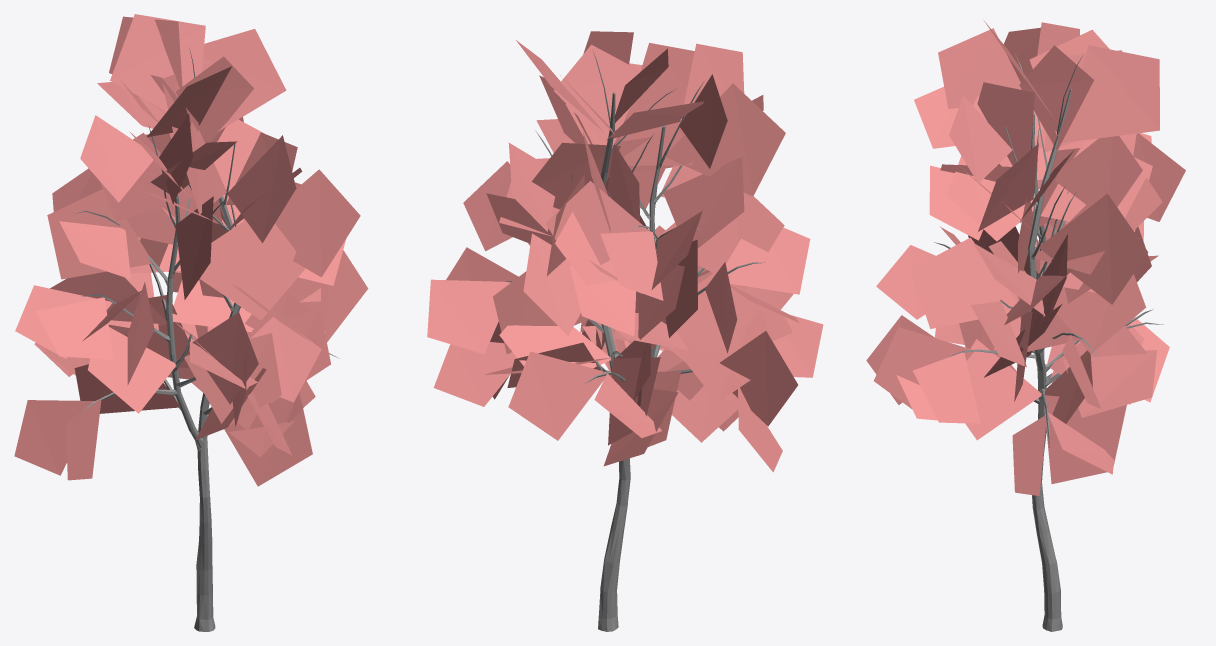
The model's file is Woods_Tree_LowPoly_003.gltf.
3 renders of one model, left to right at view 1: azimuth 30°, elevation 25°; view 2: azimuth 150°, elevation 25°; view 3: azimuth 270°, elevation 25°, orthographic. The views are drawn at different scales.
Visible parts, largest first — view 1: Woods_Tree_LowPoly_003; view 2: Woods_Tree_LowPoly_003; view 3: Woods_Tree_LowPoly_003.
Boxes of the visible parts, x1,y1,x2,y2 form: Woods_Tree_LowPoly_003: (14, 14, 368, 631); Woods_Tree_LowPoly_003: (427, 31, 823, 631); Woods_Tree_LowPoly_003: (866, 21, 1185, 631).
Bounding box in the file's own units: 9.16 × 14.67 × 7.46.
